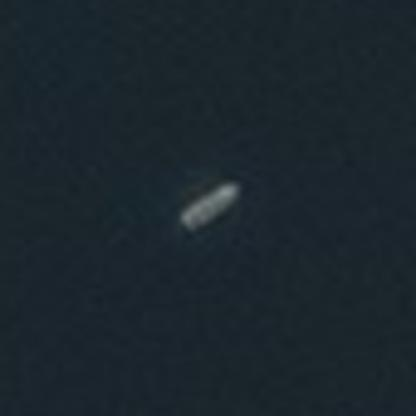ship: (171, 162, 252, 244)
